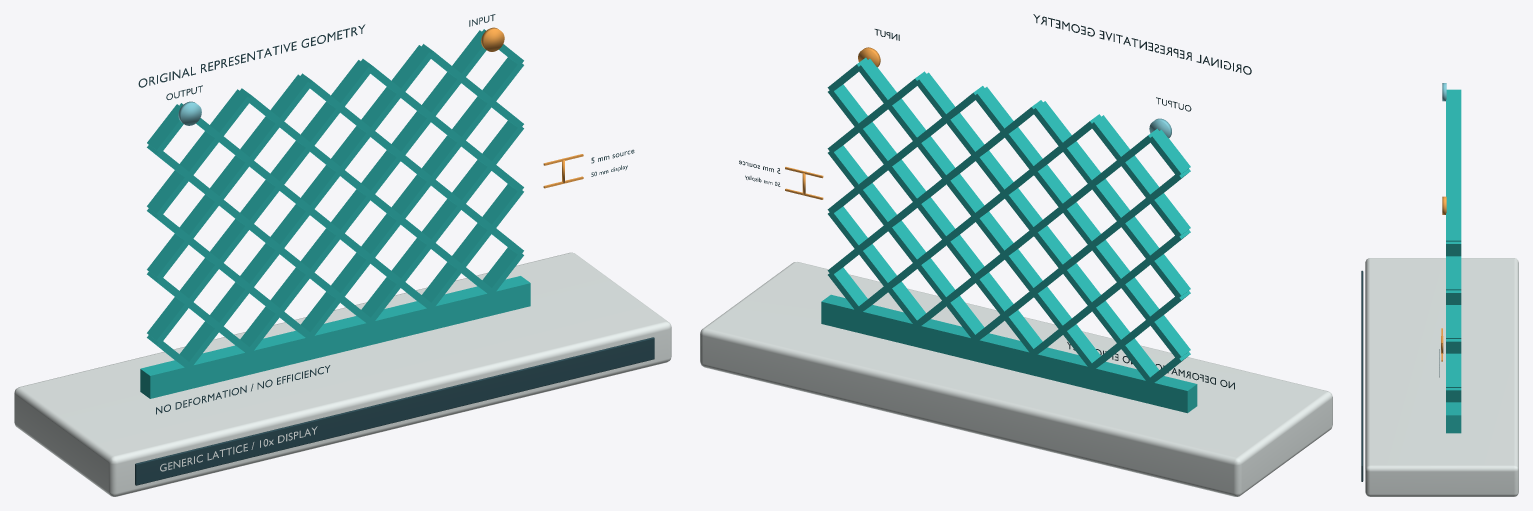
File: actuator_measurement_display.glb
3 views of the same model, side by side, from view 1: azimuth 30°, elevation 25°; view 2: azimuth 150°, elevation 25°; view 3: azimuth 270°, elevation 25° (orthographic). The views are drawn at different scales.
Visible parts, largest first — view 1: display.base, display.lattice.base, display.title.plate, display.no_physics, display.lattice.cell.0.2.0, display.lattice.cell.0.1.0, display.lattice.cell.0.0.0, display.lattice.cell.1.3.0, display.lattice.cell.2.3.0, display.lattice.cell.3.3.0, display.lattice.cell.4.3.0, display.lattice.cell.2.0.0 (+40 smaller); view 2: display.base, display.lattice.base, display.no_physics, display.lattice.cell.0.3.0, display.lattice.cell.0.2.0, display.lattice.cell.0.0.0, display.lattice.cell.0.1.0, display.lattice.cell.2.3.0, display.lattice.cell.3.3.0, display.lattice.cell.1.3.0, display.lattice.cell.4.3.0, display.lattice.cell.5.3.0 (+39 smaller); view 3: display.base, display.title.plate, display.lattice.cell.5.3.1, display.lattice.cell.5.0.1, display.lattice.cell.5.2.1, display.lattice.cell.5.1.1, display.lattice.base, display.lattice.cell.3.3.1, display.lattice.cell.0.3.1, display.lattice.cell.2.3.1, display.lattice.cell.4.3.1, display.lattice.cell.1.3.1 (+4 smaller).
Part boxes in pixels (x1=…): display.base: x1=14, y1=252, x2=671, y2=496; display.lattice.base: x1=140, y1=276, x2=530, y2=398; display.title.plate: x1=135, y1=337, x2=654, y2=485; display.no_physics: x1=138, y1=24, x2=365, y2=87; display.lattice.cell.0.2.0: x1=147, y1=170, x2=190, y2=216; display.lattice.cell.0.1.0: x1=147, y1=233, x2=190, y2=279; display.lattice.cell.0.0.0: x1=147, y1=297, x2=190, y2=342; display.lattice.cell.1.3.0: x1=210, y1=89, x2=251, y2=138; display.lattice.cell.2.3.0: x1=270, y1=74, x2=311, y2=123; display.lattice.cell.3.3.0: x1=331, y1=60, x2=372, y2=108; display.lattice.cell.4.3.0: x1=391, y1=45, x2=433, y2=94; display.lattice.cell.2.0.0: x1=270, y1=267, x2=312, y2=313; display.base: x1=700, y1=262, x2=1332, y2=496; display.lattice.base: x1=821, y1=294, x2=1197, y2=413; display.no_physics: x1=1033, y1=14, x2=1251, y2=74; display.lattice.cell.0.3.0: x1=1148, y1=129, x2=1190, y2=176; display.lattice.cell.0.2.0: x1=1148, y1=193, x2=1190, y2=237; display.lattice.cell.0.0.0: x1=1148, y1=315, x2=1190, y2=359; display.lattice.cell.0.1.0: x1=1148, y1=254, x2=1190, y2=298; display.lattice.cell.2.3.0: x1=1031, y1=101, x2=1071, y2=147; display.lattice.cell.3.3.0: x1=973, y1=87, x2=1013, y2=134; display.lattice.cell.1.3.0: x1=1090, y1=115, x2=1129, y2=162; display.lattice.cell.4.3.0: x1=915, y1=72, x2=954, y2=119; display.lattice.cell.5.3.0: x1=857, y1=59, x2=896, y2=105; display.base: x1=1365, y1=258, x2=1518, y2=496; display.title.plate: x1=1361, y1=270, x2=1363, y2=481; display.lattice.cell.5.3.1: x1=1446, y1=205, x2=1461, y2=241; display.lattice.cell.5.0.1: x1=1446, y1=353, x2=1461, y2=387; display.lattice.cell.5.2.1: x1=1446, y1=256, x2=1461, y2=290; display.lattice.cell.5.1.1: x1=1446, y1=305, x2=1461, y2=338; display.lattice.base: x1=1446, y1=402, x2=1461, y2=433; display.lattice.cell.3.3.1: x1=1446, y1=159, x2=1461, y2=180; display.lattice.cell.0.3.1: x1=1446, y1=91, x2=1461, y2=112; display.lattice.cell.2.3.1: x1=1446, y1=136, x2=1461, y2=157; display.lattice.cell.4.3.1: x1=1446, y1=182, x2=1461, y2=203; display.lattice.cell.1.3.1: x1=1446, y1=114, x2=1461, y2=134.
Size of the model in its own units: 1.32 by 0.8503 by 0.4111.
